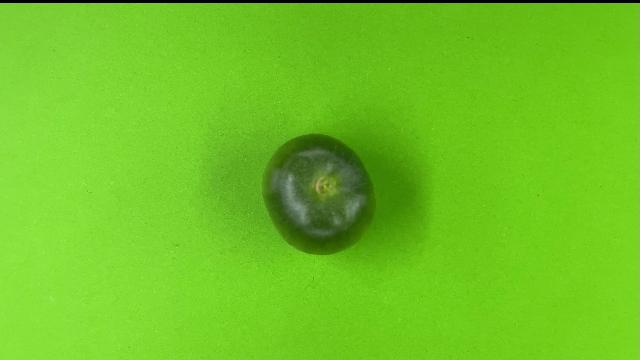Fruit Maturation: (261, 132, 378, 255)
